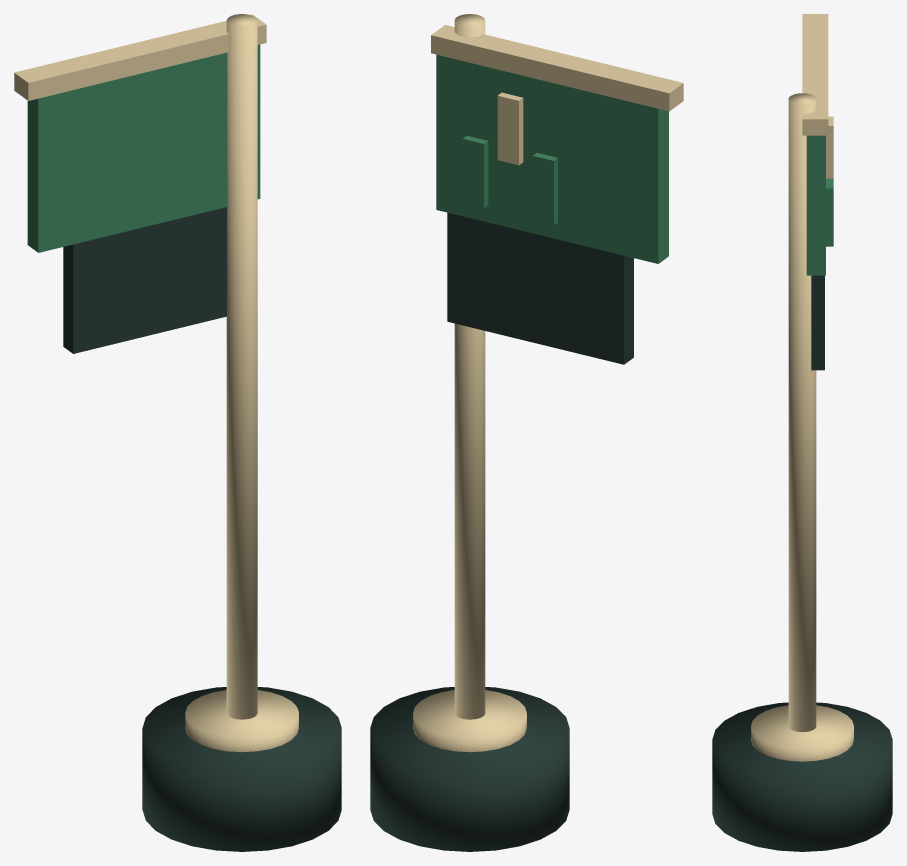
Rendered from fanflag.forest-lanterns-old.glb.
3 views of the same model, side by side, from view 1: azimuth 30°, elevation 25°; view 2: azimuth 150°, elevation 25°; view 3: azimuth 270°, elevation 25° (orthographic). The views are drawn at different scales.
Parts seen in each view (by area): view 1: weighted flag foot; view 2: weighted flag foot; view 3: weighted flag foot.
Boxes of the visible parts, box(x1,y1,x2,y2) form: weighted flag foot: box(14, 14, 341, 851); weighted flag foot: box(370, 14, 683, 851); weighted flag foot: box(712, 14, 892, 851).
Size of the model in its own units: 0.73 by 1.84 by 0.42.
